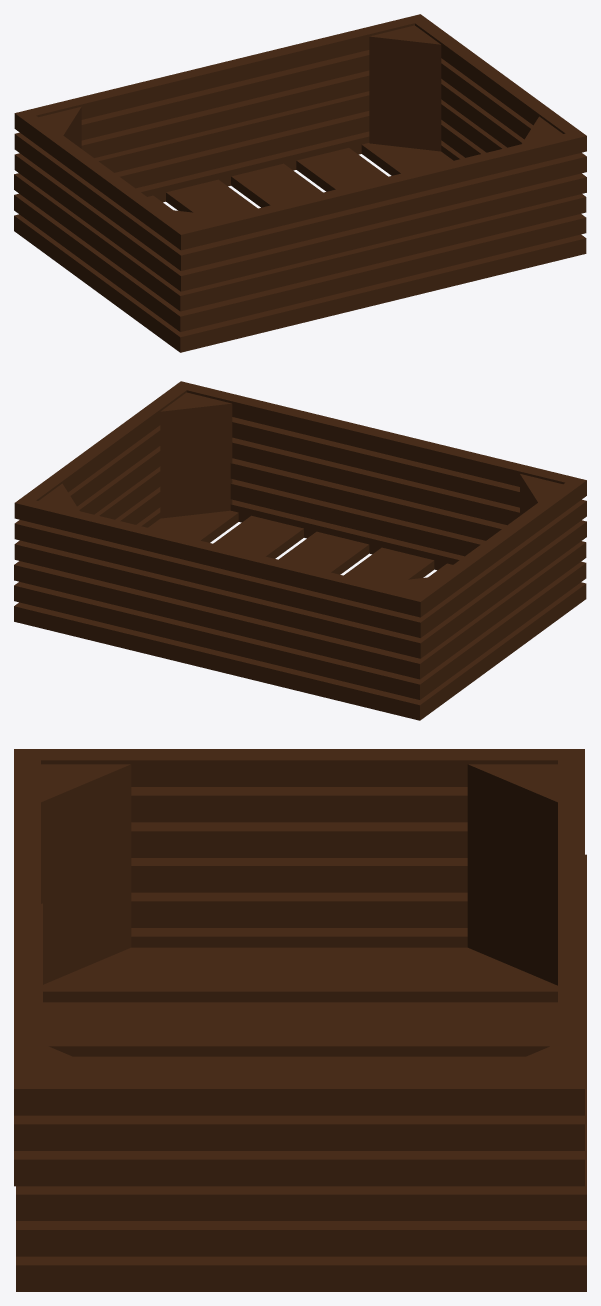
File: LowCrate4Slats.fbx
3 renders of one model, top to bottom at view 1: azimuth 30°, elevation 25°; view 2: azimuth 150°, elevation 25°; view 3: azimuth 270°, elevation 25°, orthographic. The views are drawn at different scales.
Visible parts, largest first — view 1: LowCrate4Slats; view 2: LowCrate4Slats; view 3: LowCrate4Slats.
Boxes of the visible parts, x1,y1,x2,y2 form: LowCrate4Slats: (14, 14, 586, 352); LowCrate4Slats: (14, 381, 586, 720); LowCrate4Slats: (14, 749, 586, 1291).
Bounding box in the file's own units: 44.32 × 62.22 × 17.33.
